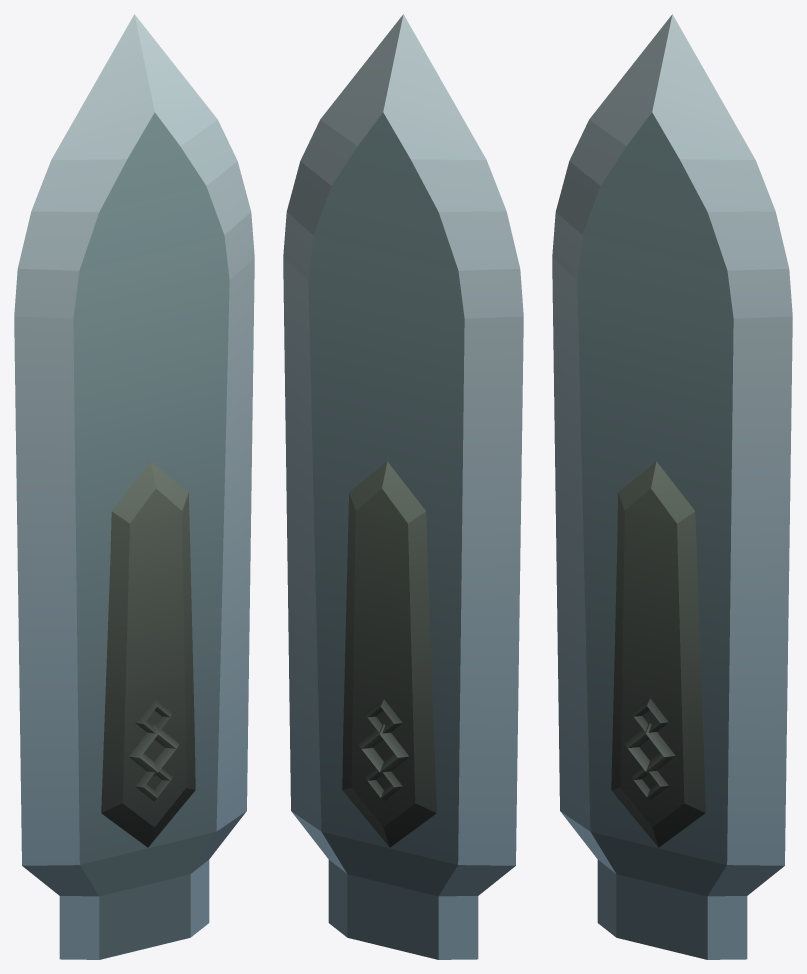
File: blade_012.fbx
The picture shows the model from 3 angles, left to right: view 1: azimuth 30°, elevation 25°; view 2: azimuth 150°, elevation 25°; view 3: azimuth 330°, elevation 25°; orthographic projection.
Parts seen in each view (by area): view 1: blade.012; view 2: blade.012; view 3: blade.012.
Part boxes in pixels (left/top/right/bottom): blade.012: left=14, top=14, right=254, bottom=959; blade.012: left=283, top=14, right=523, bottom=959; blade.012: left=552, top=14, right=792, bottom=959.
Bounding box in the file's own units: 27.03 × 99.51 × 9.81.
